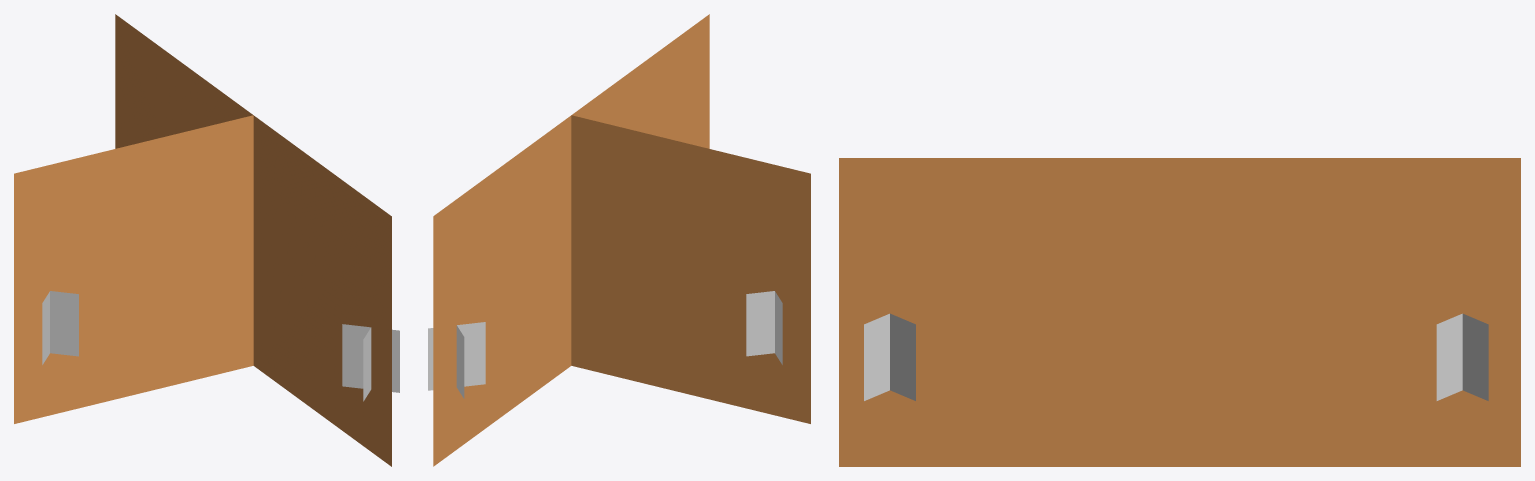
File: Fence_BH_20201_05.fbx
3 renders of one model, left to right at view 1: azimuth 30°, elevation 25°; view 2: azimuth 150°, elevation 25°; view 3: azimuth 270°, elevation 25°, orthographic. The views are drawn at different scales.
Visible parts, largest first — view 1: Fence_BH_20201_05; view 2: Fence_BH_20201_05; view 3: Fence_BH_20201_05.
Boxes of the visible parts, x1,y1,x2,y2 form: Fence_BH_20201_05: [14, 14, 399, 466]; Fence_BH_20201_05: [428, 14, 810, 466]; Fence_BH_20201_05: [839, 158, 1520, 466].
Bounding box in the file's own units: 53.8 × 50 × 100.
Materials: 1 (1 with a texture image).
